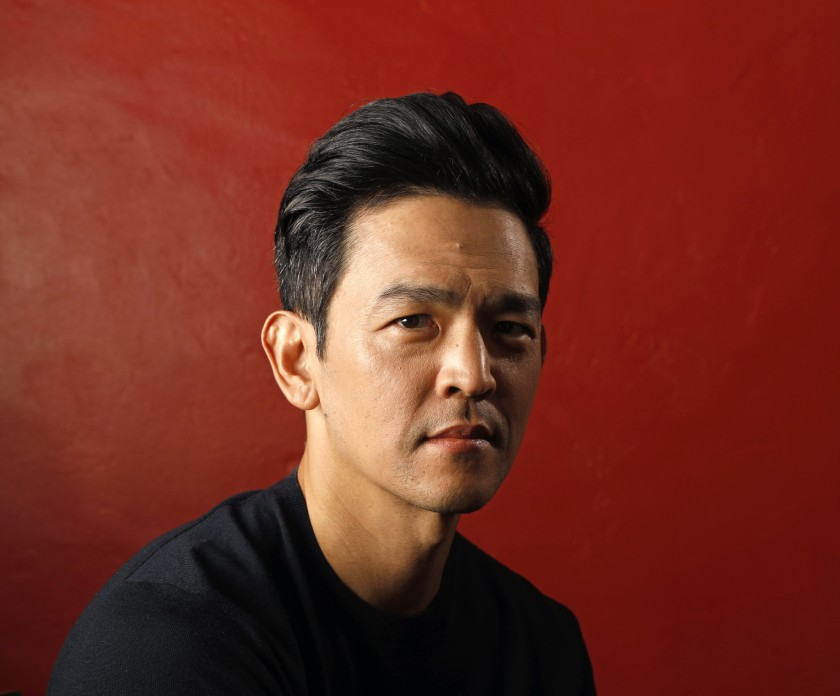bare: (315, 339, 544, 510)
